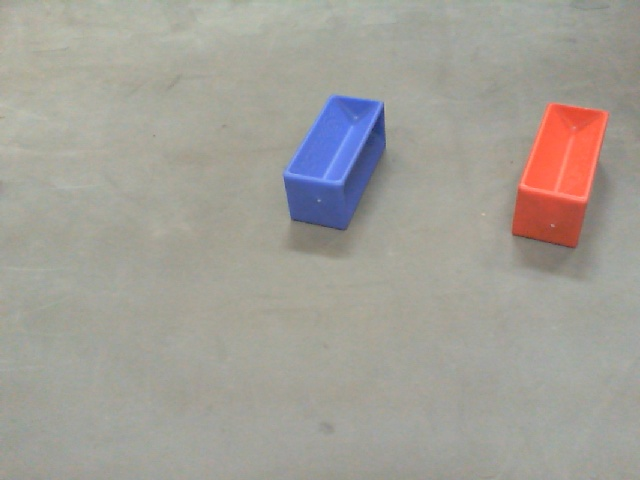BlueSample: (282, 93, 388, 234)
RedSample: (509, 102, 612, 250)
